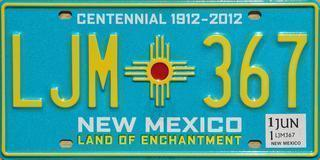placa de veiculo: (3, 4, 313, 151)
